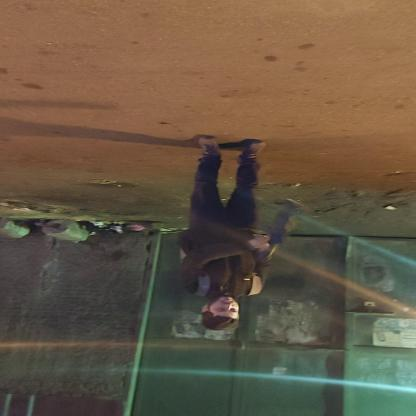long weapon: (253, 191, 309, 263)
